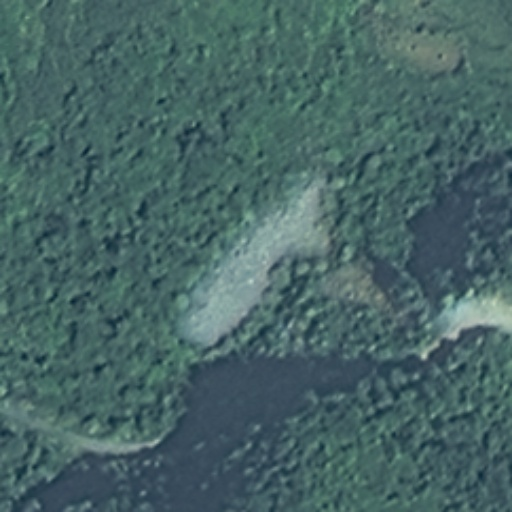landslide: (194, 183, 327, 340)
